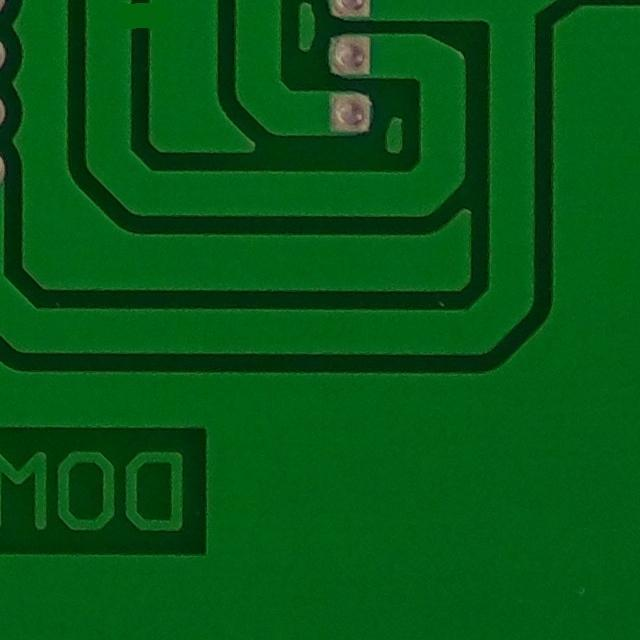short: (95, 0, 202, 82)
